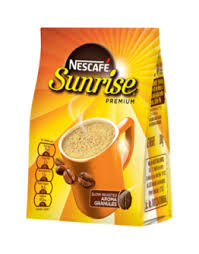nescafe-classic/gold-med: (22, 26, 168, 221)
